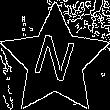N_S: (29, 30, 81, 91)
